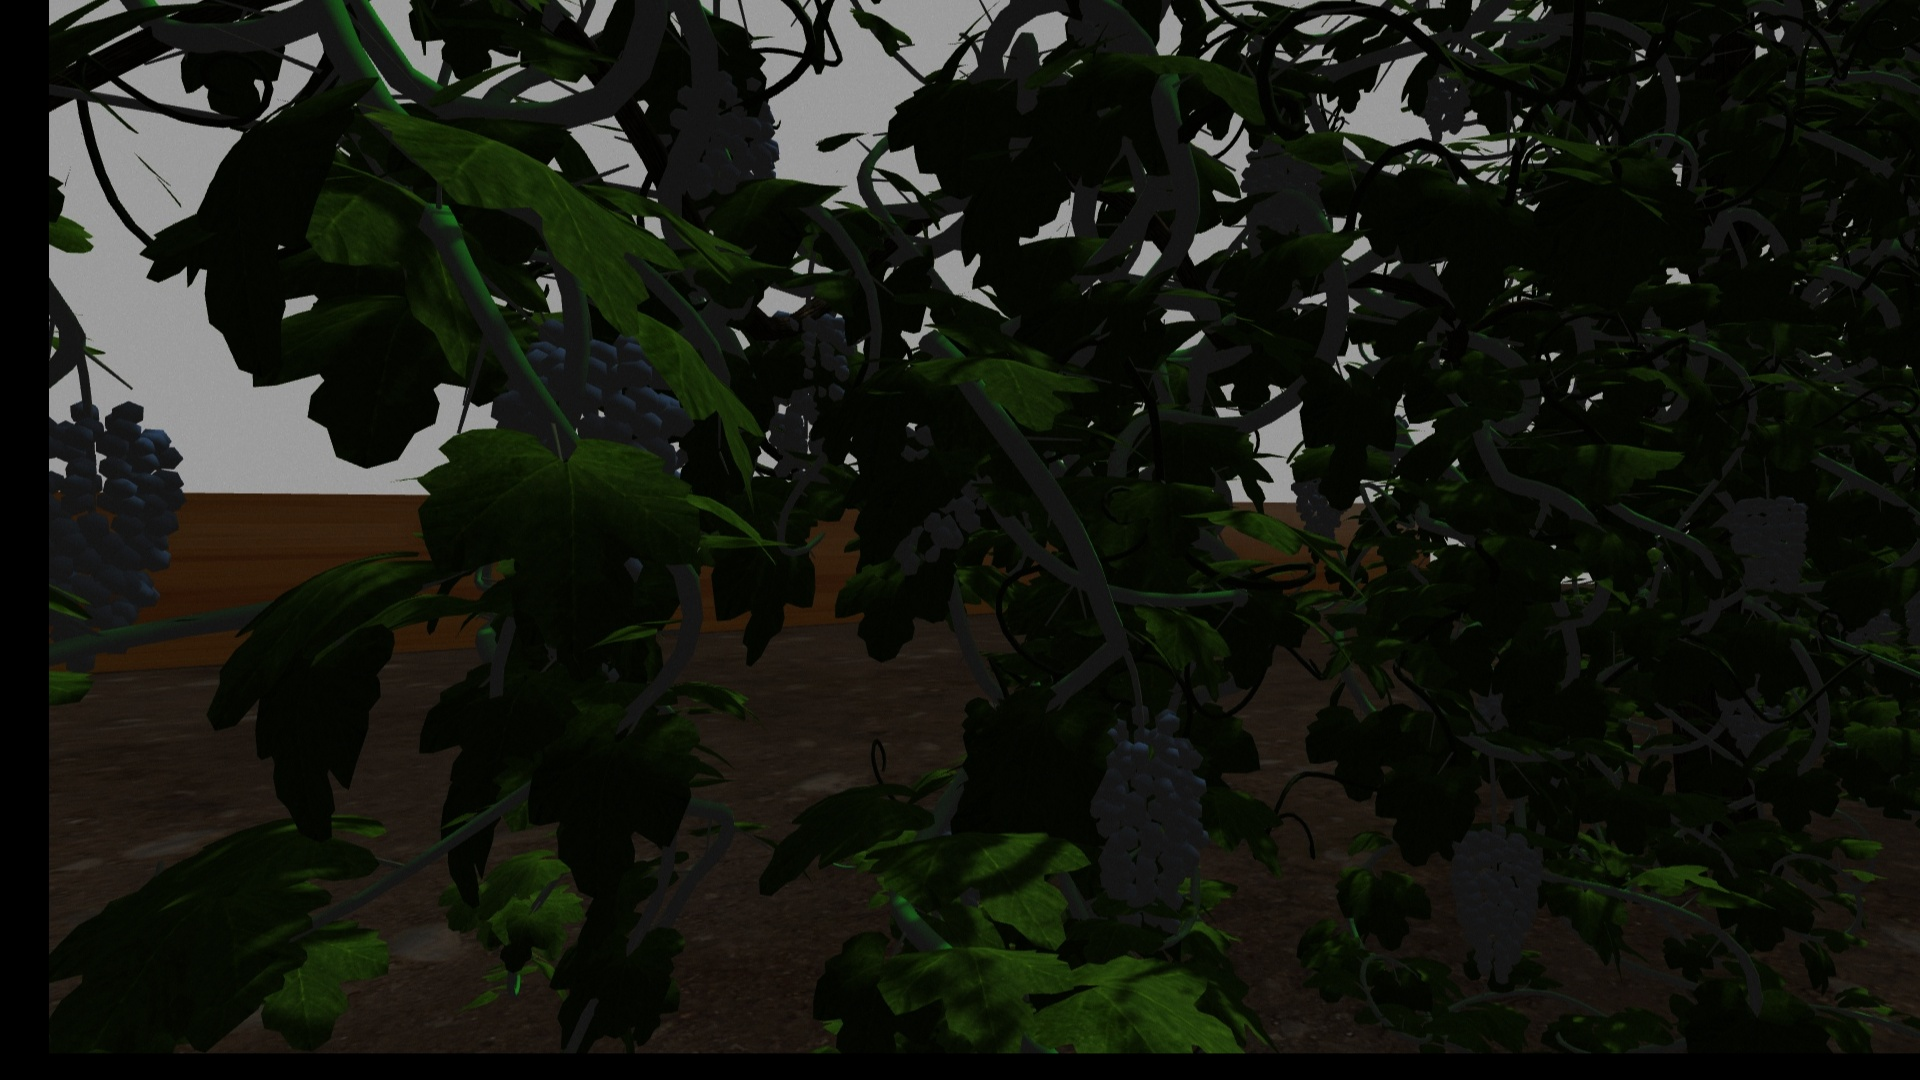grape: (54, 401, 182, 629), (488, 328, 680, 472), (1088, 704, 1207, 931), (1443, 783, 1545, 982), (663, 67, 779, 199), (1240, 137, 1323, 255), (1726, 493, 1813, 593), (1418, 73, 1469, 138)
